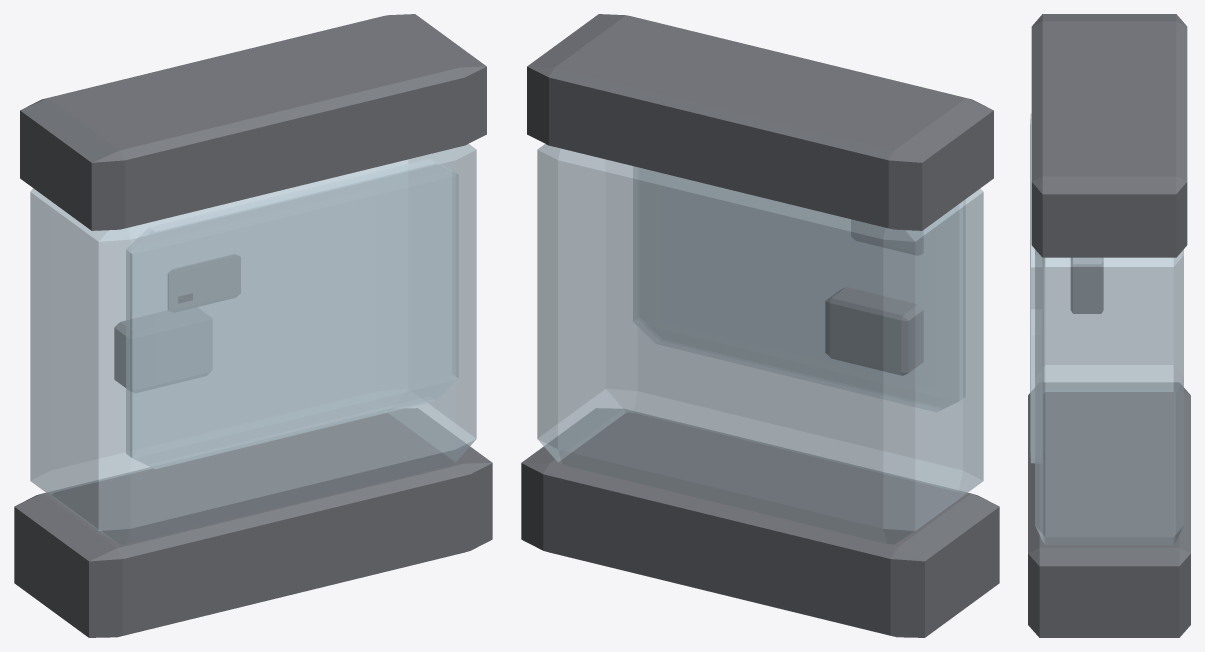
The model's file is b12_open_casement_window.glb.
The picture shows the model from 3 angles, left to right: view 1: azimuth 30°, elevation 25°; view 2: azimuth 150°, elevation 25°; view 3: azimuth 270°, elevation 25°; orthographic projection. The views are drawn at different scales.
Visible parts, largest first — view 1: b12_open_casement_window; view 2: b12_open_casement_window; view 3: b12_open_casement_window.
Boxes of the visible parts, left/top/right/bottom form: b12_open_casement_window: left=14, top=14, right=492, bottom=637; b12_open_casement_window: left=521, top=14, right=999, bottom=637; b12_open_casement_window: left=1028, top=14, right=1190, bottom=637.
Bounding box in the file's own units: 1.36 × 1.56 × 0.508.
